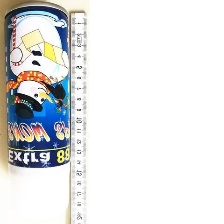aerosol_cans: (1, 0, 76, 222)
